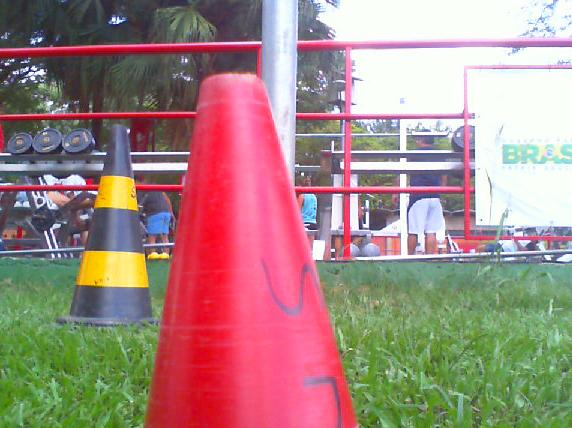0 cone: (140, 72, 364, 428), (56, 124, 158, 327)
